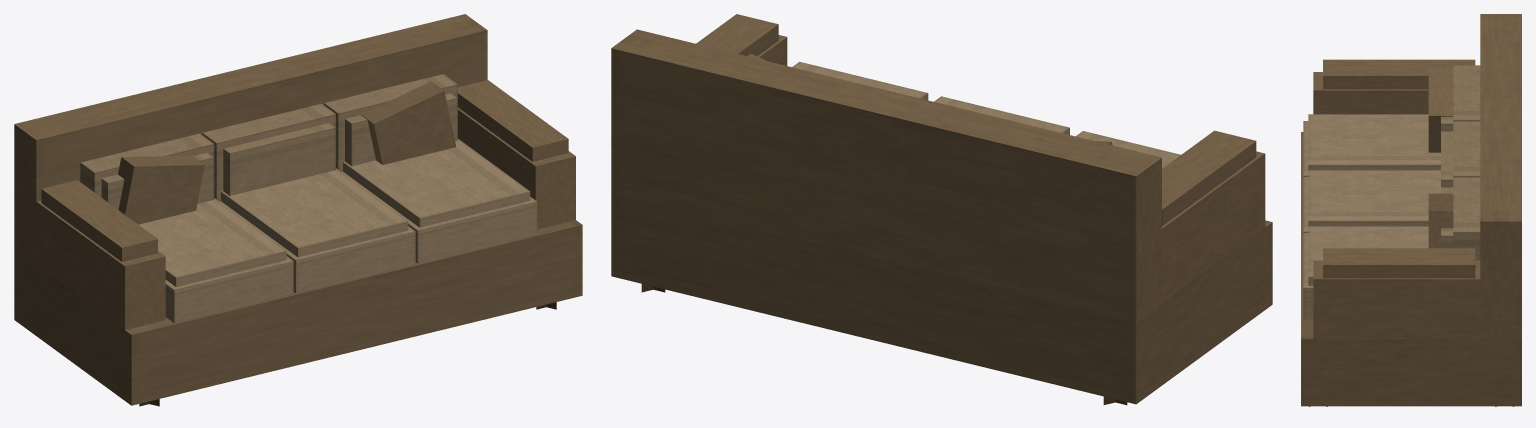
File: couch.glb
3 renders of one model, left to right at view 1: azimuth 30°, elevation 25°; view 2: azimuth 150°, elevation 25°; view 3: azimuth 270°, elevation 25°, orthographic. The views are drawn at different scales.
Parts seen in each view (by area): view 1: core_couch; view 2: core_couch; view 3: core_couch.
Part boxes in pixels (x1,y1,x2,y2): core_couch: (14, 14, 582, 406); core_couch: (611, 14, 1272, 405); core_couch: (1301, 14, 1521, 406).
Bounding box in the file's own units: 2 × 0.9 × 0.9.
1 material, 1 textured.
